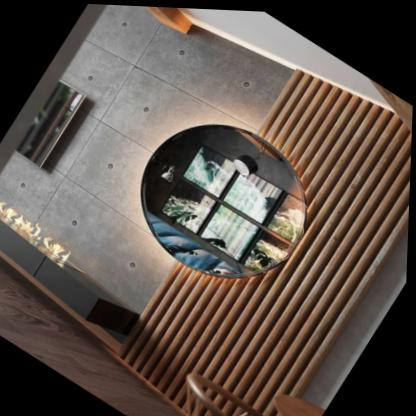Wall Panel: (0, 4, 413, 416)
Wooden floor: (0, 252, 189, 416)
